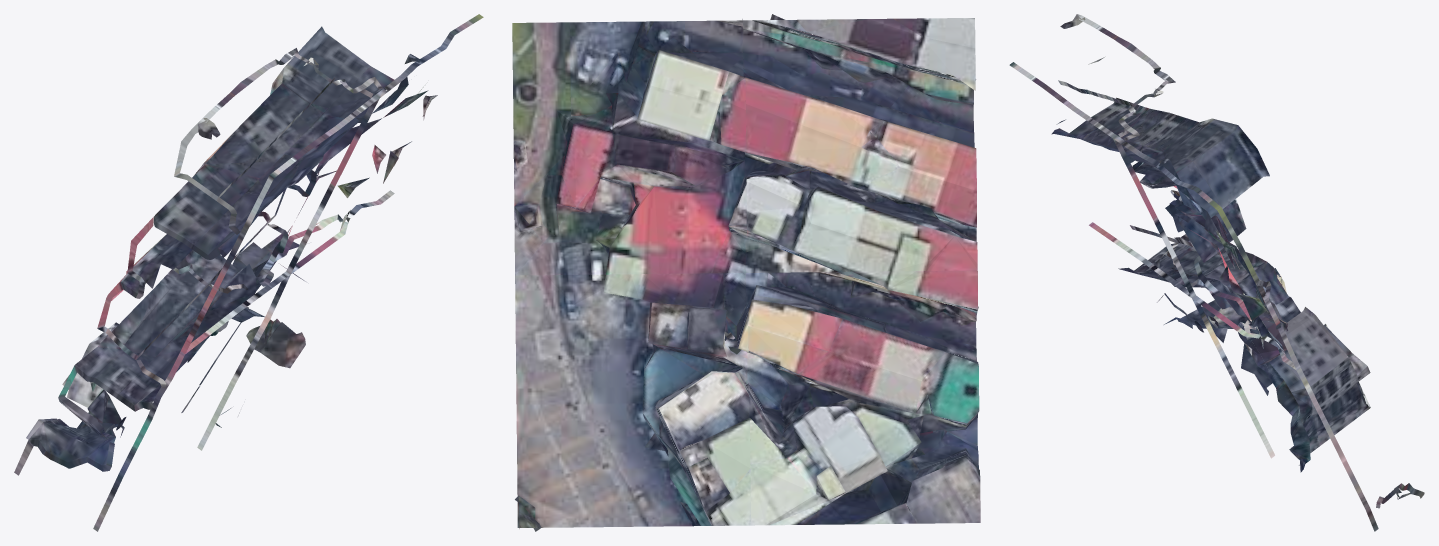
3 renders of one model, left to right at view 1: azimuth 30°, elevation 25°; view 2: azimuth 150°, elevation 25°; view 3: azimuth 270°, elevation 25°, orthographic. The views are drawn at different scales.
Bounding box in the file's own units: 83.83 × 76.15 × 71.86.
1 material, 1 textured.
